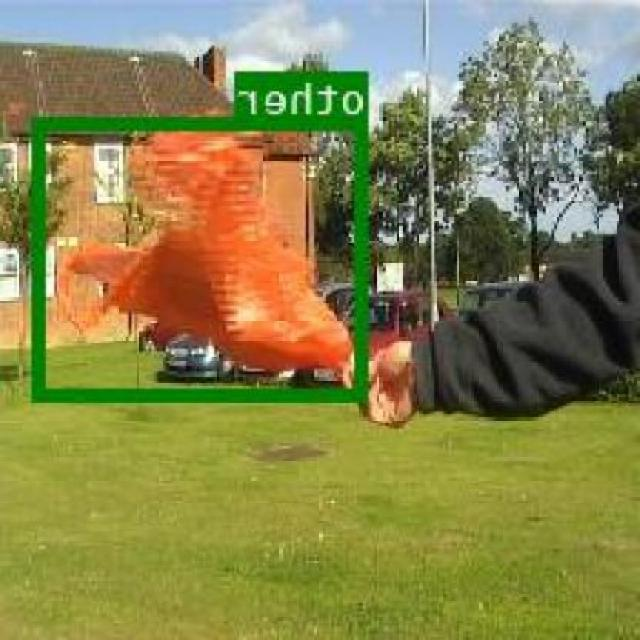other: (36, 115, 370, 398)
